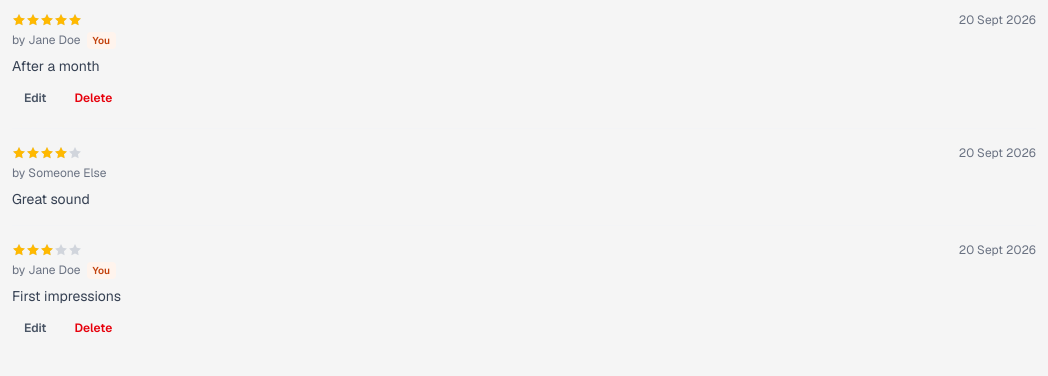
Test case: reviews › RatingList › deletes one specific review after confirmation
What coordinates should you click on to do the following:
click the button with aria-label "Delete review"
I would click on:
 (93, 98)
Its box is [62,84,124,112].
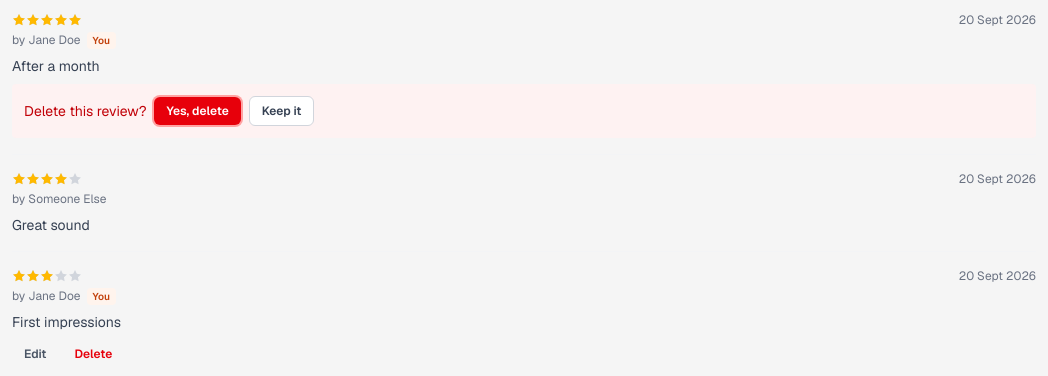
What coordinates should you click on to do the following:
click the button "Keep it"
I would click on:
 (282, 111)
Its box is [249,96,314,126].
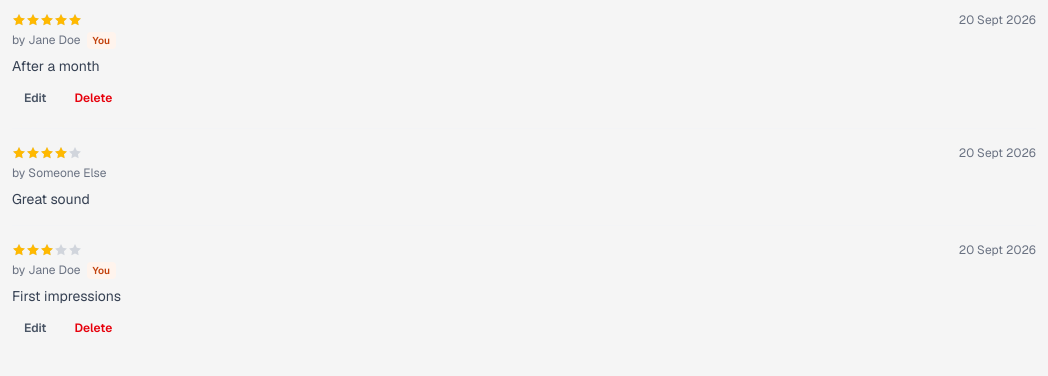
What coordinates should you click on to do the following:
click the button with aria-label "Delete review"
I would click on:
 (93, 98)
Its box is [62,84,124,112].
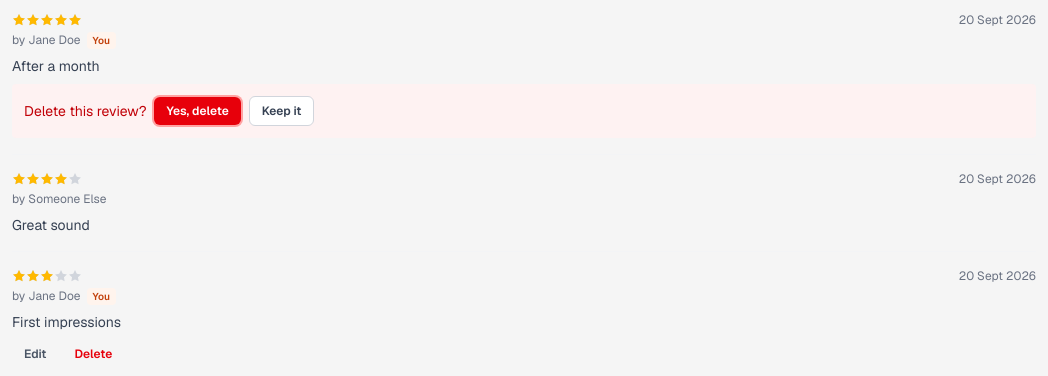
What coordinates should you click on to do the following:
click the button "Yes, delete"
I would click on:
 (198, 111)
Its box is [154,97,241,125].
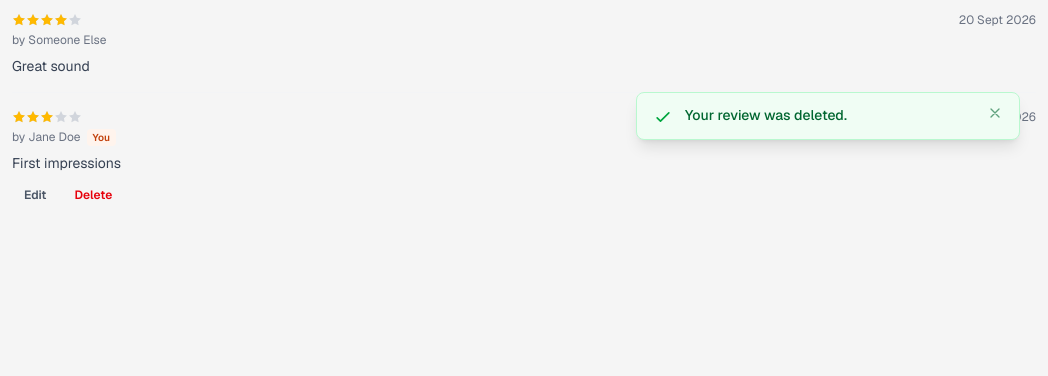
expect the text "First impressions" is shown: met, box [12,154,121,172]
expect the text "After a month" is gone: met
expect the text "Your review was deleted." is shown: met, box [636,92,1020,140]
